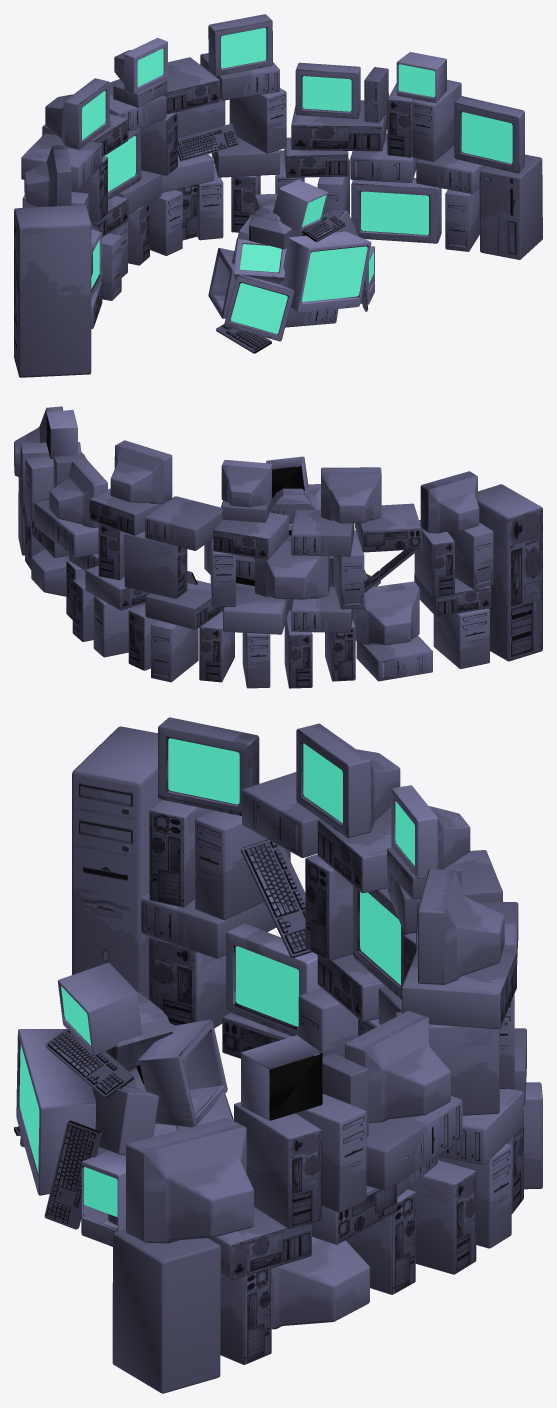
The model's file is computer.glb.
3 renders of one model, top to bottom at view 1: azimuth 30°, elevation 25°; view 2: azimuth 150°, elevation 25°; view 3: azimuth 270°, elevation 25°, orthographic. The views are drawn at different scales.
Parts seen in each view (by area): view 1: PC 01.010_29, Screen D.003_109, Screen C.002_106, PC 03.008_101, Screen D.001_105, Screen B.002_107, Screen D.004_110, PC 01.053_98, Screen D.002_108, Screen C.001_102, PC 01.050_95, scrab (+33 smaller); view 2: PC 01.010_29, Screen C.002_106, Screen D.003_109, Screen B.002_107, Screen A.001_104, PC 01.051_96, Screen B.001_103, Screen D.002_108, PC 01.033_65, PC 01.017_41, PC 01.032_64, PC 02.022_66 (+32 smaller); view 3: Screen D.003_109, PC 01.010_29, Screen C.002_106, PC 03.008_101, Screen B.002_107, Screen D.002_108, Screen D.004_110, PC 01.048_91, Screen A.001_104, Screen D.001_105, Screen C.001_102, PC 01.040_81 (+35 smaller).
Boxes of the visible parts, x1,y1,x2,y2 form: PC 01.010_29: (14, 205, 91, 377); Screen D.003_109: (208, 14, 524, 341); Screen C.002_106: (114, 37, 446, 304); PC 03.008_101: (364, 67, 542, 259); Screen D.001_105: (351, 178, 441, 243); Screen B.002_107: (24, 145, 303, 249); Screen D.004_110: (295, 62, 360, 118); PC 01.053_98: (291, 100, 387, 151); Screen D.002_108: (45, 78, 109, 149); Screen C.001_102: (280, 231, 371, 312); PC 01.050_95: (229, 88, 286, 153); scrab: (302, 246, 367, 301); PC 01.010_29: (478, 484, 542, 661); Screen C.002_106: (46, 410, 308, 574); Screen D.003_109: (14, 406, 367, 609); Screen B.002_107: (270, 471, 479, 533); Screen A.001_104: (353, 581, 419, 645); PC 01.051_96: (124, 531, 187, 598); Screen B.001_103: (255, 535, 329, 599); Screen D.002_108: (321, 467, 381, 523); PC 01.033_65: (145, 496, 222, 550); PC 01.017_41: (433, 608, 489, 668); PC 01.032_64: (213, 512, 288, 559); PC 02.022_66: (355, 503, 421, 552); Screen D.003_109: (20, 869, 504, 1243); PC 01.010_29: (72, 726, 161, 999); Screen C.002_106: (57, 785, 470, 1246); PC 03.008_101: (112, 1053, 368, 1393); Screen B.002_107: (105, 717, 259, 1069); Screen D.002_108: (296, 723, 400, 837); Screen D.004_110: (345, 1011, 450, 1122); PC 01.048_91: (234, 1102, 321, 1228); Screen A.001_104: (226, 923, 321, 1036); Screen D.001_105: (271, 1237, 369, 1329); Screen C.001_102: (16, 1029, 95, 1195); PC 01.040_81: (408, 1160, 476, 1274).
Size of the model in its own units: 15.06 by 5.73 by 7.98.
2 materials, 1 textured.
